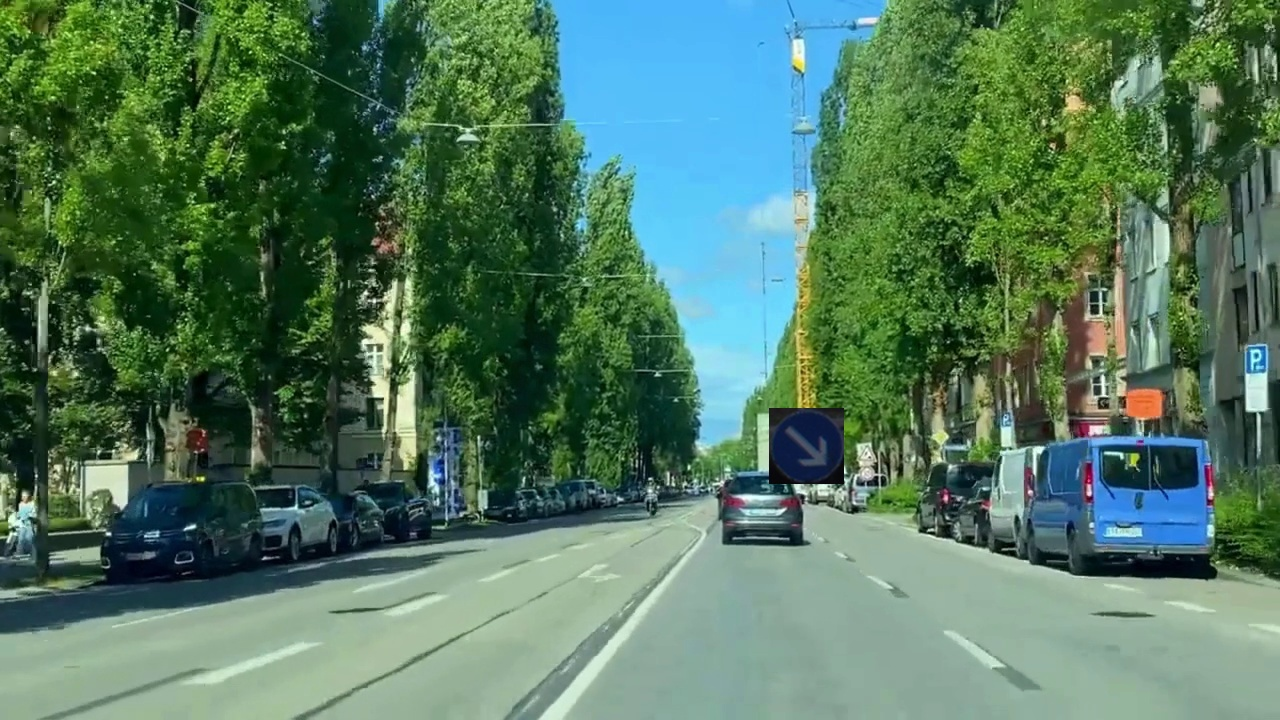Keep right: (769, 408, 844, 484)
